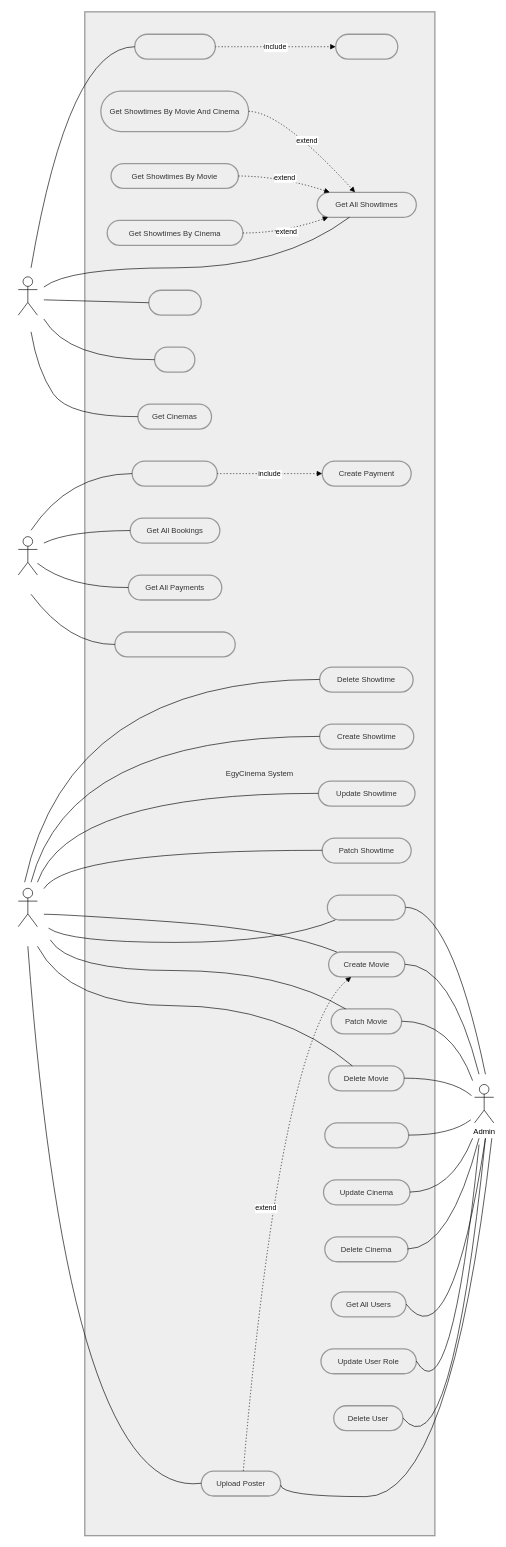
Some shapes in this 506 by 1547 pixel diagram are drawn without their labels. Each missing label, with the centre of its shape:
Add Movie to Favorites: [175,644]
Create Booking: [174,473]
Create Cinema: [366,1135]
Customer: [27,555]
Employee: [27,907]
Get All Movies: [175,46]
Get Movie: [366,46]
Guest: [27,295]
Login: [174,359]
Register: [175,302]
Update Movie: [366,907]
